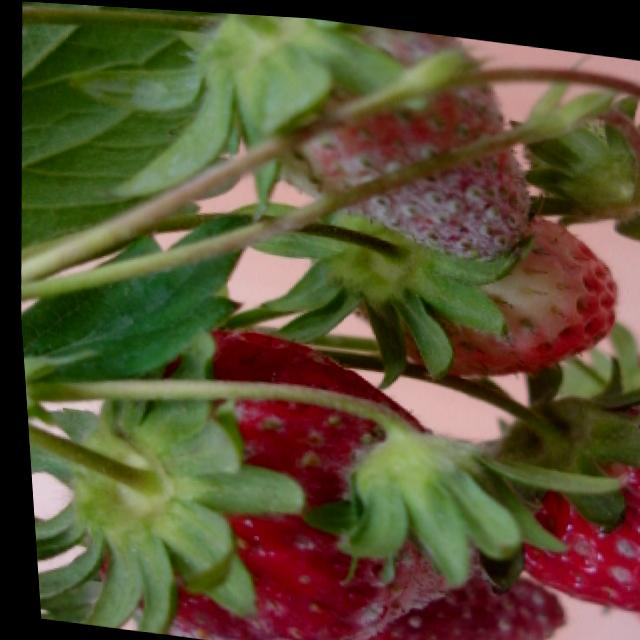Powdery Mildew Fruit: (76, 324, 480, 640), (215, 10, 530, 257), (481, 386, 640, 608), (346, 557, 557, 640)
